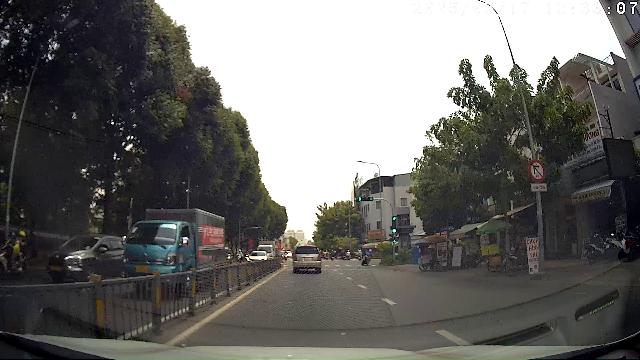103b-cam-oto-re-phai: (528, 160, 546, 182)
